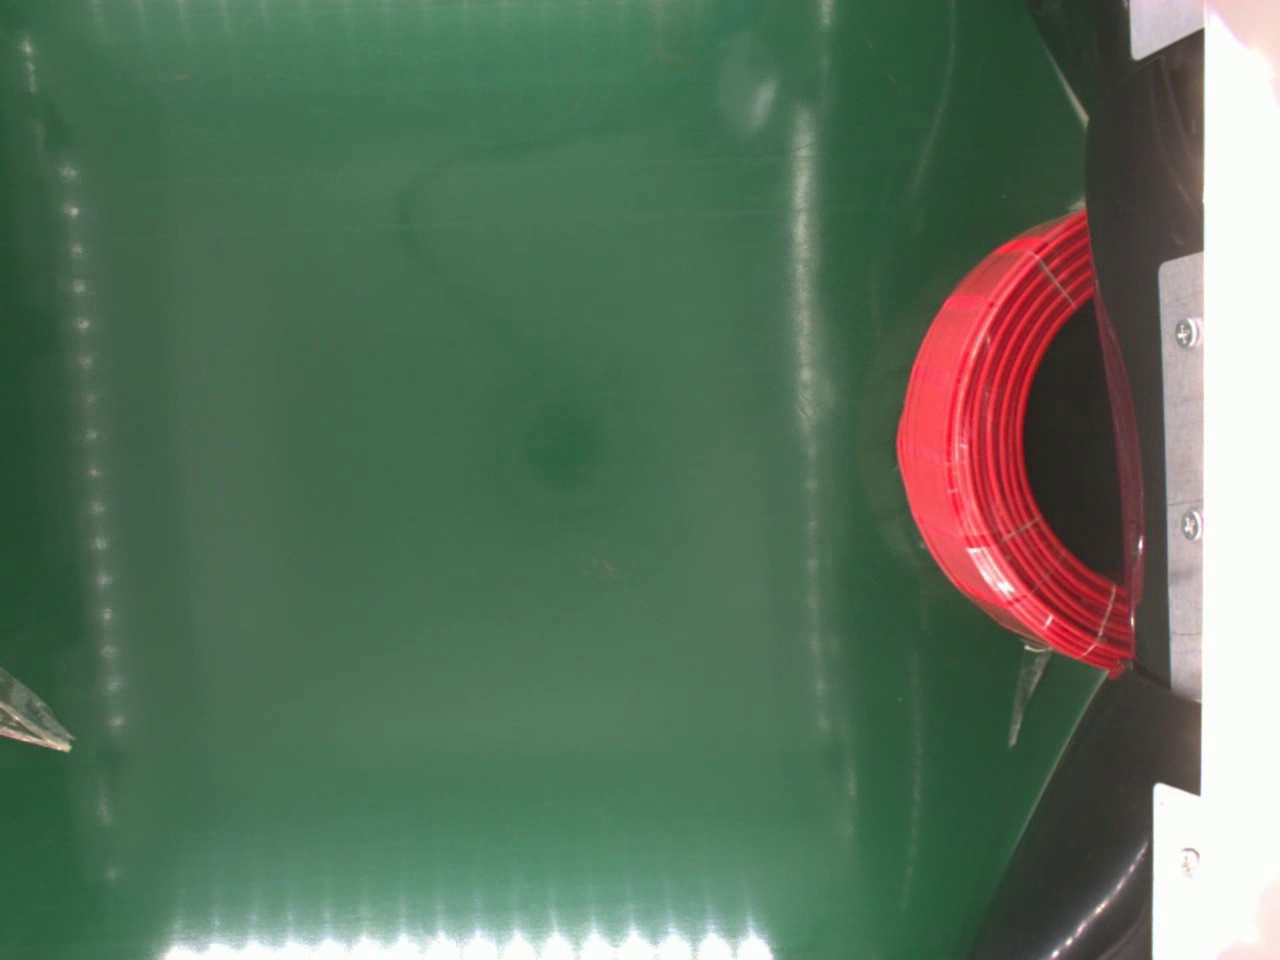red: (890, 207, 1131, 679)
